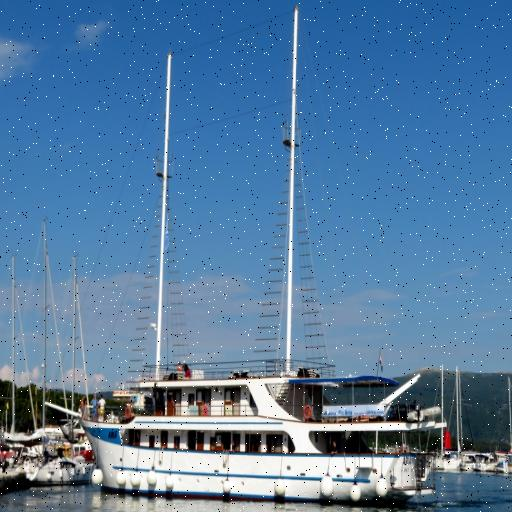cruises: (83, 357, 453, 508)
